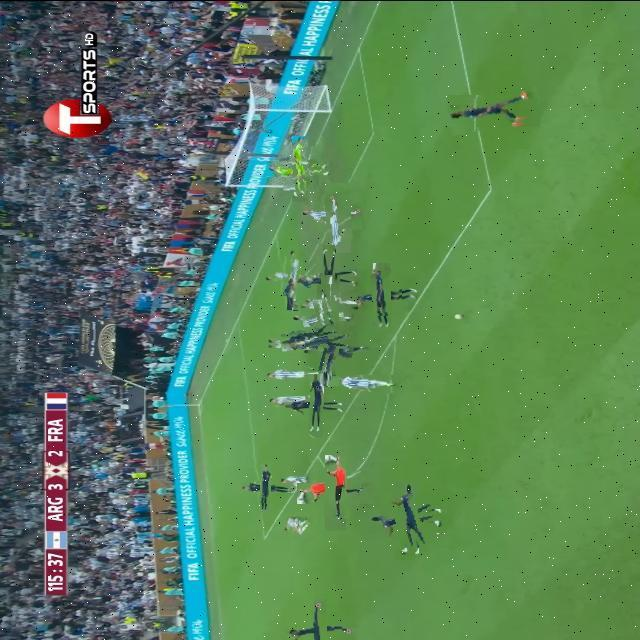goalkeeper: (279, 146, 323, 190)
player: (446, 89, 541, 130), (380, 492, 436, 549), (313, 192, 363, 242), (307, 324, 356, 374), (301, 295, 347, 341), (360, 273, 403, 316), (271, 256, 314, 299), (279, 323, 349, 347), (297, 385, 336, 425), (309, 257, 348, 296), (311, 283, 349, 321), (297, 611, 342, 640), (332, 373, 403, 391), (250, 472, 281, 504), (284, 510, 315, 541), (267, 335, 327, 351)
referee: (310, 468, 361, 518)
